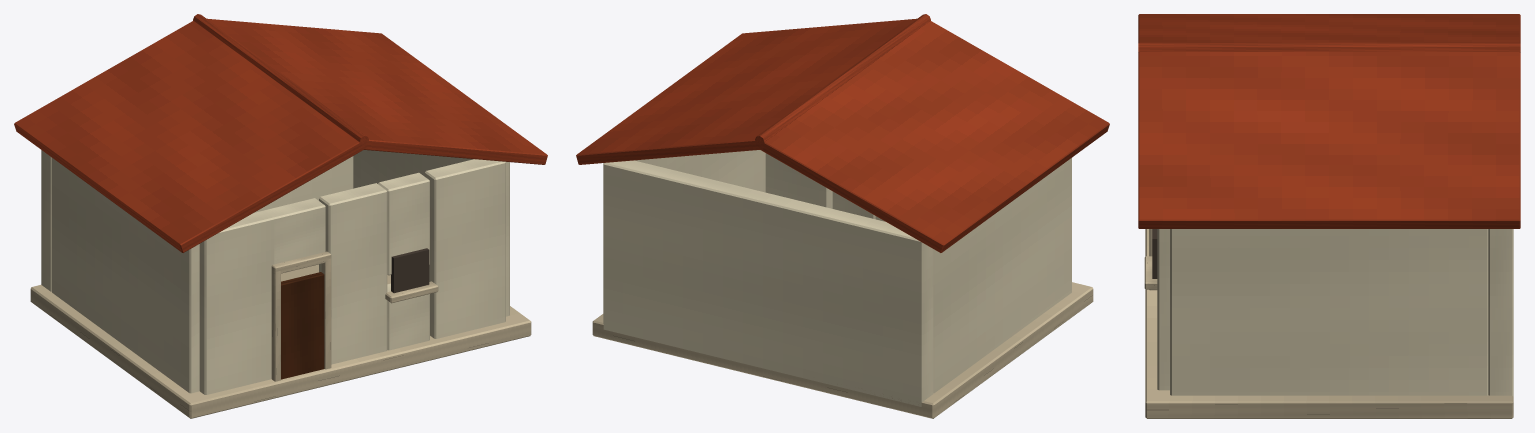
File: GreekHouse_A.glb
The picture shows the model from 3 angles, left to right: view 1: azimuth 30°, elevation 25°; view 2: azimuth 150°, elevation 25°; view 3: azimuth 270°, elevation 25°; orthographic projection. The views are drawn at different scales.
Parts seen in each view (by area): view 1: TerracottaRoofLeft, TerracottaRoofRight, LeftWall, FrontRight, FrontLeft, Foundation, FrontCenter, WoodDoor, WindowLintel, BackWall, RightWall, DoorLintel (+7 smaller); view 2: BackWall, TerracottaRoofLeft, TerracottaRoofRight, LeftWall, Foundation, RightWall, TerracottaRoofRidge, FrontRight, WindowSill; view 3: TerracottaRoofRight, RightWall, TerracottaRoofLeft, Foundation, BackWall, TerracottaRoofRidge, FrontRight, WindowSillStone.
Boxes of the visible parts, box(x1,y1,x2,y2) form: TerracottaRoofLeft: box(14, 21, 368, 252); TerracottaRoofRight: box(207, 18, 547, 164); LeftWall: box(52, 158, 199, 393); FrontRight: box(424, 159, 505, 338); FrontLeft: box(199, 210, 274, 394); Foundation: box(30, 264, 531, 418); FrontCenter: box(319, 183, 387, 364); WoodDoor: box(281, 272, 324, 379); WindowLintel: box(378, 172, 429, 275); BackWall: box(41, 150, 353, 291); RightWall: box(353, 150, 509, 316); DoorLintel: box(264, 198, 325, 264); BackWall: box(603, 160, 933, 406); TerracottaRoofLeft: box(756, 21, 1109, 252); TerracottaRoofRight: box(576, 18, 916, 164); LeftWall: box(933, 158, 1071, 393); Foundation: box(592, 282, 1093, 418); RightWall: box(634, 150, 765, 192); TerracottaRoofRidge: box(755, 14, 930, 145); FrontRight: box(765, 153, 832, 208); WindowSill: box(832, 191, 875, 219); TerracottaRoofRight: box(1138, 52, 1520, 228); RightWall: box(1170, 229, 1488, 395); TerracottaRoofLeft: box(1138, 14, 1520, 43); Foundation: box(1145, 229, 1513, 418); BackWall: box(1488, 229, 1513, 396); TerracottaRoofRidge: box(1138, 43, 1520, 52); FrontRight: box(1157, 229, 1169, 390); WindowSillStone: box(1144, 256, 1157, 289).
Size of the model in its own units: 6.89 by 4.37 by 5.4.
Materials: 5 (4 with a texture image).
